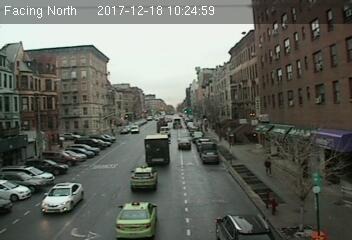car: (113, 201, 162, 238), (216, 209, 273, 240), (43, 182, 82, 214), (130, 167, 158, 188), (200, 150, 219, 163), (177, 137, 192, 150)
pedestrian: (264, 158, 274, 177)
ups: (144, 134, 170, 166)
